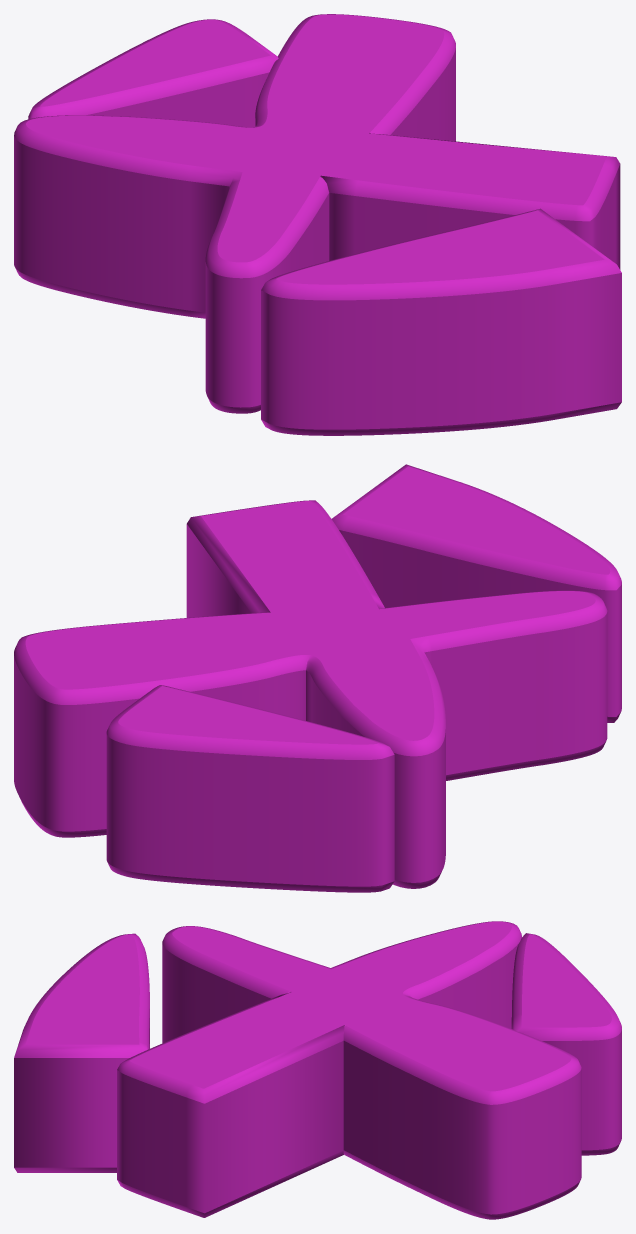
File: Number_8.fbx
The picture shows the model from 3 angles, top to bottom: view 1: azimuth 30°, elevation 25°; view 2: azimuth 150°, elevation 25°; view 3: azimuth 270°, elevation 25°; orthographic projection. The views are drawn at different scales.
Parts seen in each view (by area): view 1: Number_8; view 2: Number_8; view 3: Number_8.
Boxes of the visible parts, bbox=[...] form: Number_8: bbox=[14, 14, 621, 435]; Number_8: bbox=[14, 464, 621, 892]; Number_8: bbox=[14, 921, 621, 1219].
Size of the model in its own units: 0.4189 by 0.14 by 0.6032.
